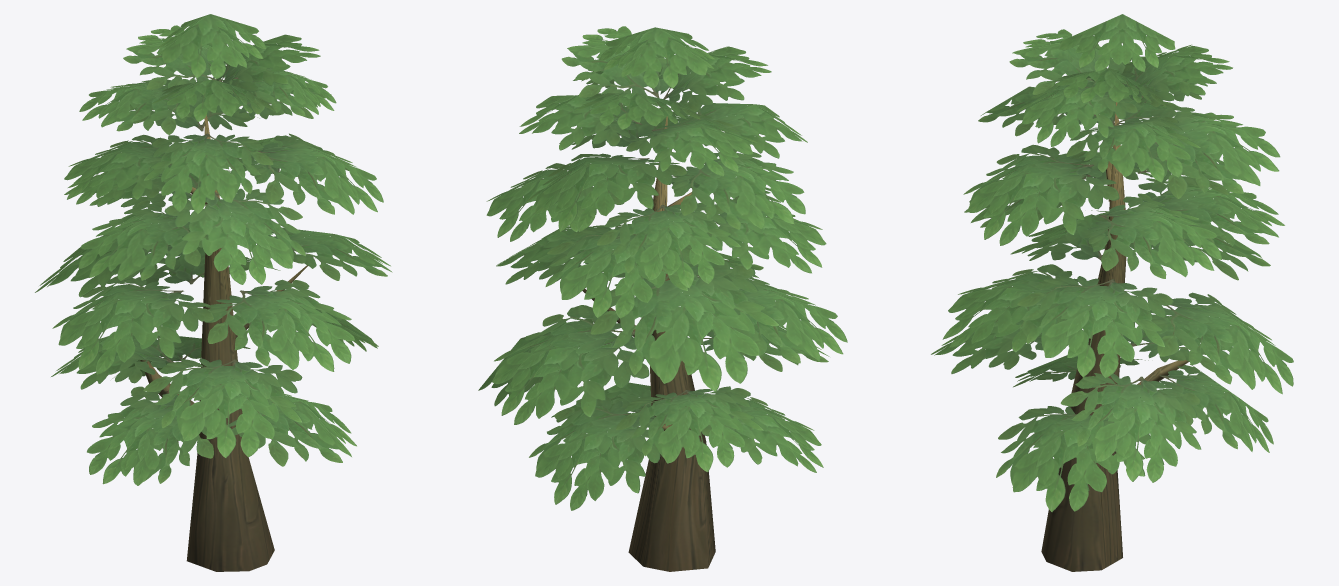
Rendered from main_map_tree_08e.fbx.
The picture shows the model from 3 angles, left to right: view 1: azimuth 30°, elevation 25°; view 2: azimuth 150°, elevation 25°; view 3: azimuth 270°, elevation 25°; orthographic projection. The views are drawn at different scales.
Visible parts, largest first — view 1: main_map_tree_08e; view 2: main_map_tree_08e; view 3: main_map_tree_08e.
Boxes of the visible parts, <box> form: main_map_tree_08e: <box>35,14,392,571</box>; main_map_tree_08e: <box>478,26,847,571</box>; main_map_tree_08e: <box>931,14,1293,571</box>.
Bounding box in the file's own units: 156 × 222 × 160.
